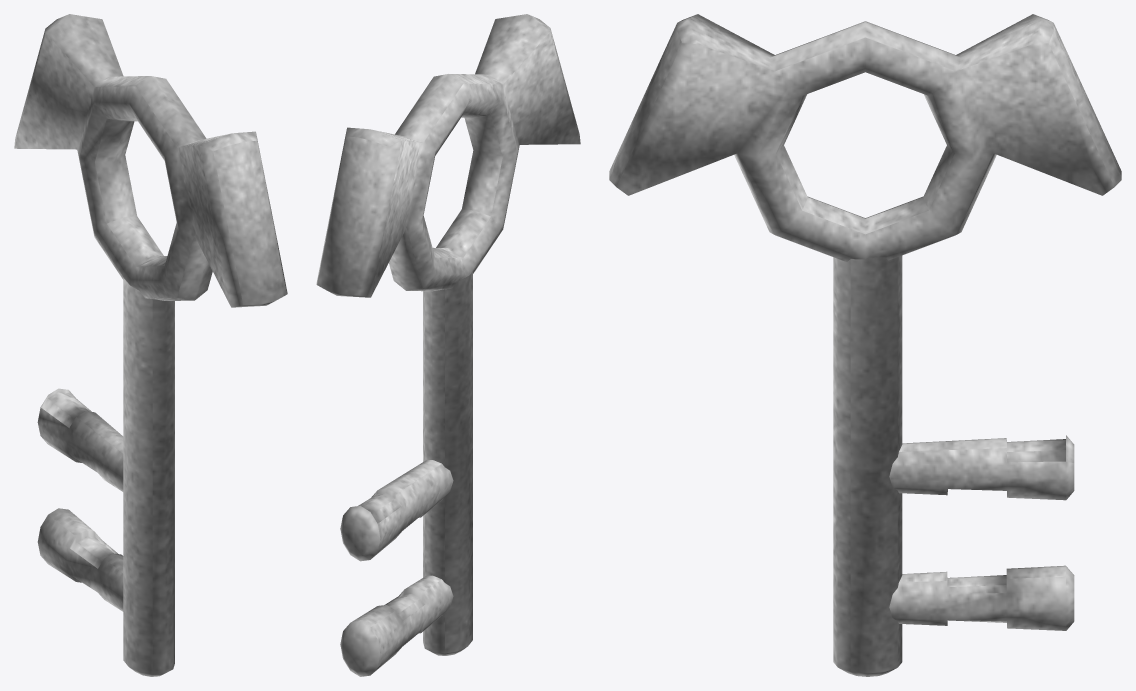
Rendered from MansionGateKey.fbx.
The picture shows the model from 3 angles, left to right: view 1: azimuth 30°, elevation 25°; view 2: azimuth 150°, elevation 25°; view 3: azimuth 270°, elevation 25°; orthographic projection. The views are drawn at different scales.
Visible parts, largest first — view 1: MansionGateKey; view 2: MansionGateKey; view 3: MansionGateKey.
Boxes of the visible parts, x1,y1,x2,y2 form: MansionGateKey: (14,14,287,676); MansionGateKey: (316,14,580,676); MansionGateKey: (609,14,1121,676).
Size of the model in its own units: 3.58 by 36.11 by 25.78.
